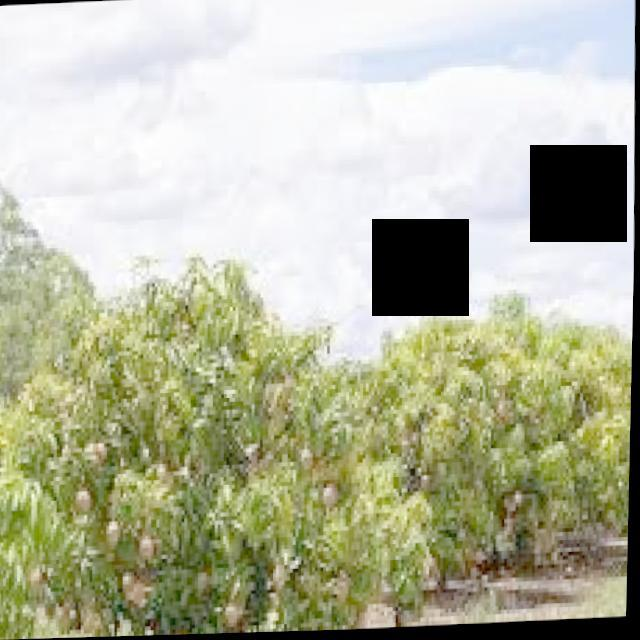Tree: (19, 259, 388, 640), (349, 268, 553, 632), (482, 261, 637, 583)
